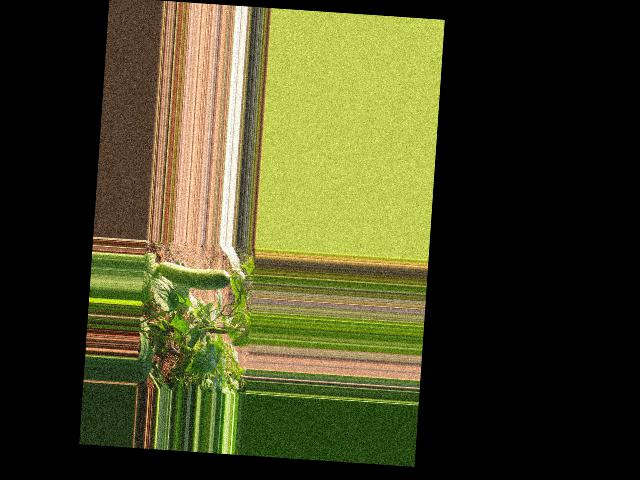cucumber: (156, 261, 230, 291)
